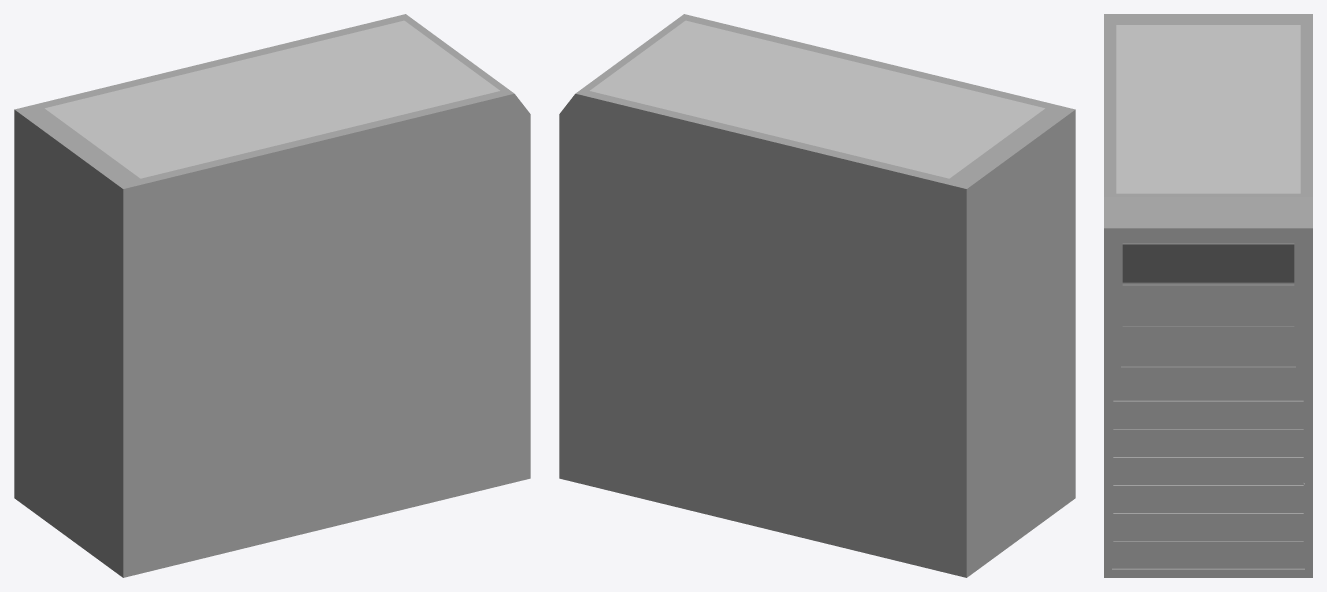
The model's file is computer.fbx.
3 renders of one model, left to right at view 1: azimuth 30°, elevation 25°; view 2: azimuth 150°, elevation 25°; view 3: azimuth 270°, elevation 25°, orthographic. The views are drawn at different scales.
Parts seen in each view (by area): view 1: Cube; view 2: Cube; view 3: Cube.
Part boxes in pixels (x1,y1,x2,y2): Cube: (14,14,530,577); Cube: (559,14,1075,577); Cube: (1104,14,1312,577).
Bounding box in the file's own units: 363 × 331 × 168.
1 material, 1 textured.
